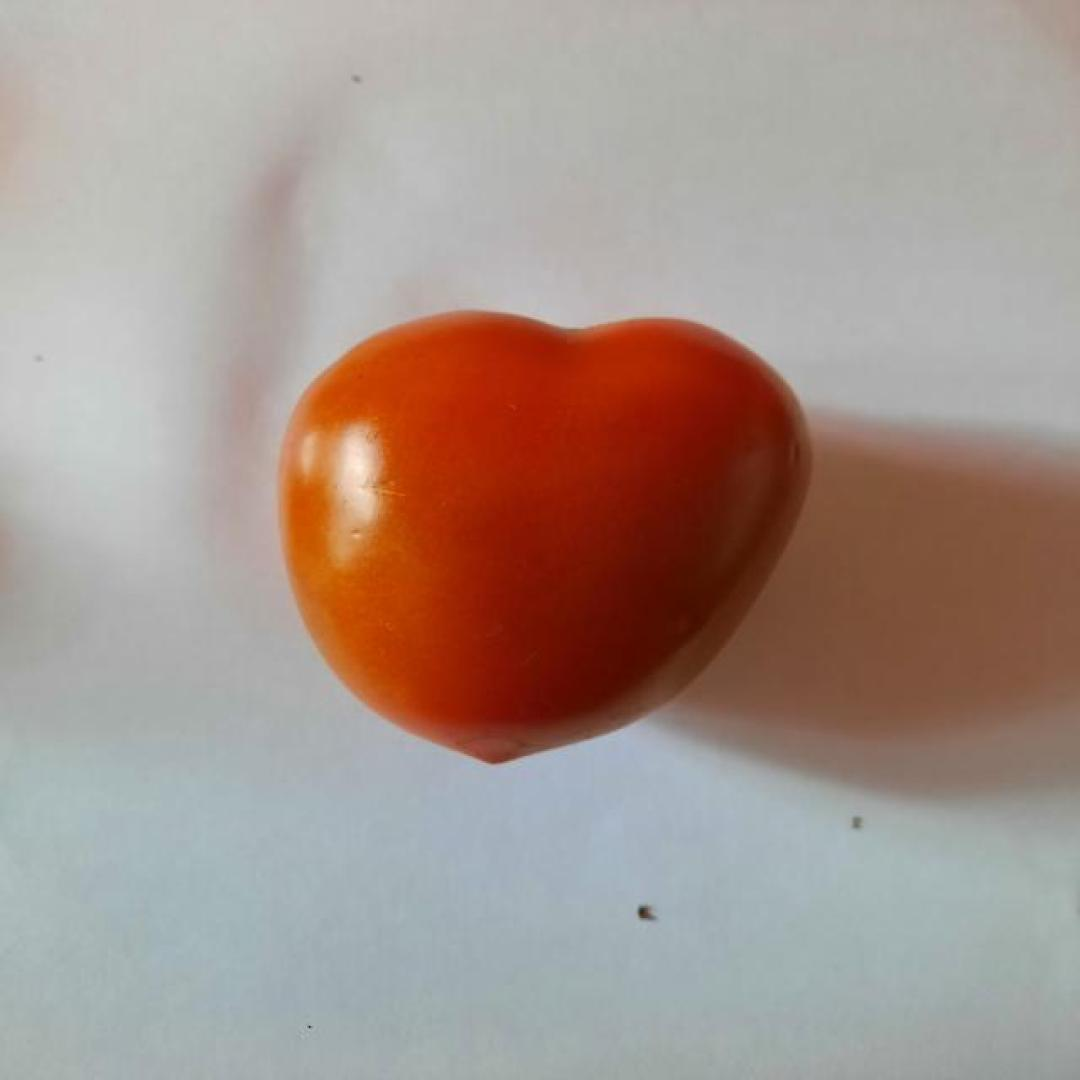matang: (271, 304, 816, 766)
